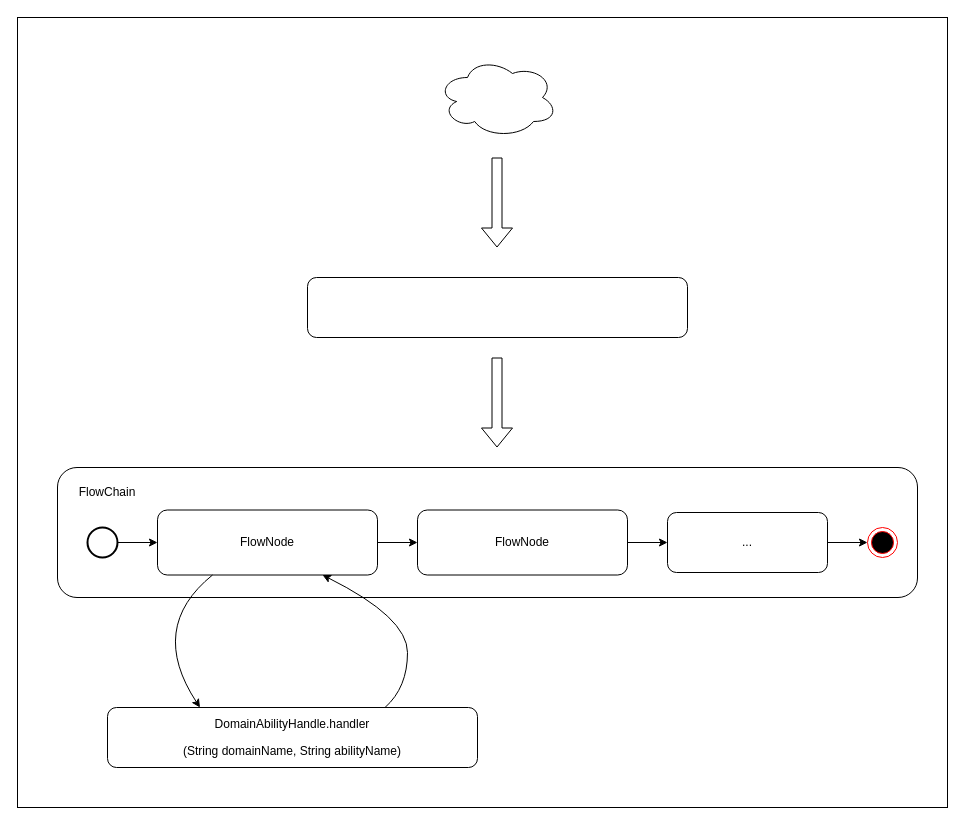
This 965x825 diagram has some shape labels left out. The centre of each missing label's shape, as x and y in pixels:
FlowChainHandle.handler (String flowCode): the point at 497,307
request: the point at 497,97
